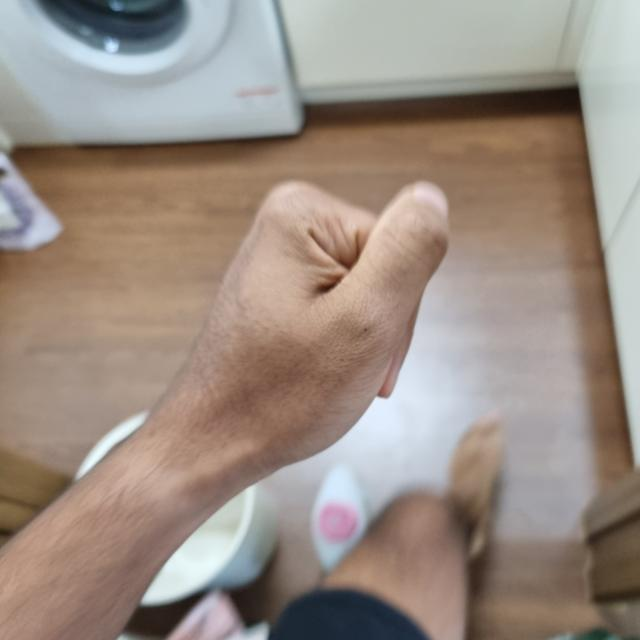Rock: (183, 183, 446, 468)
